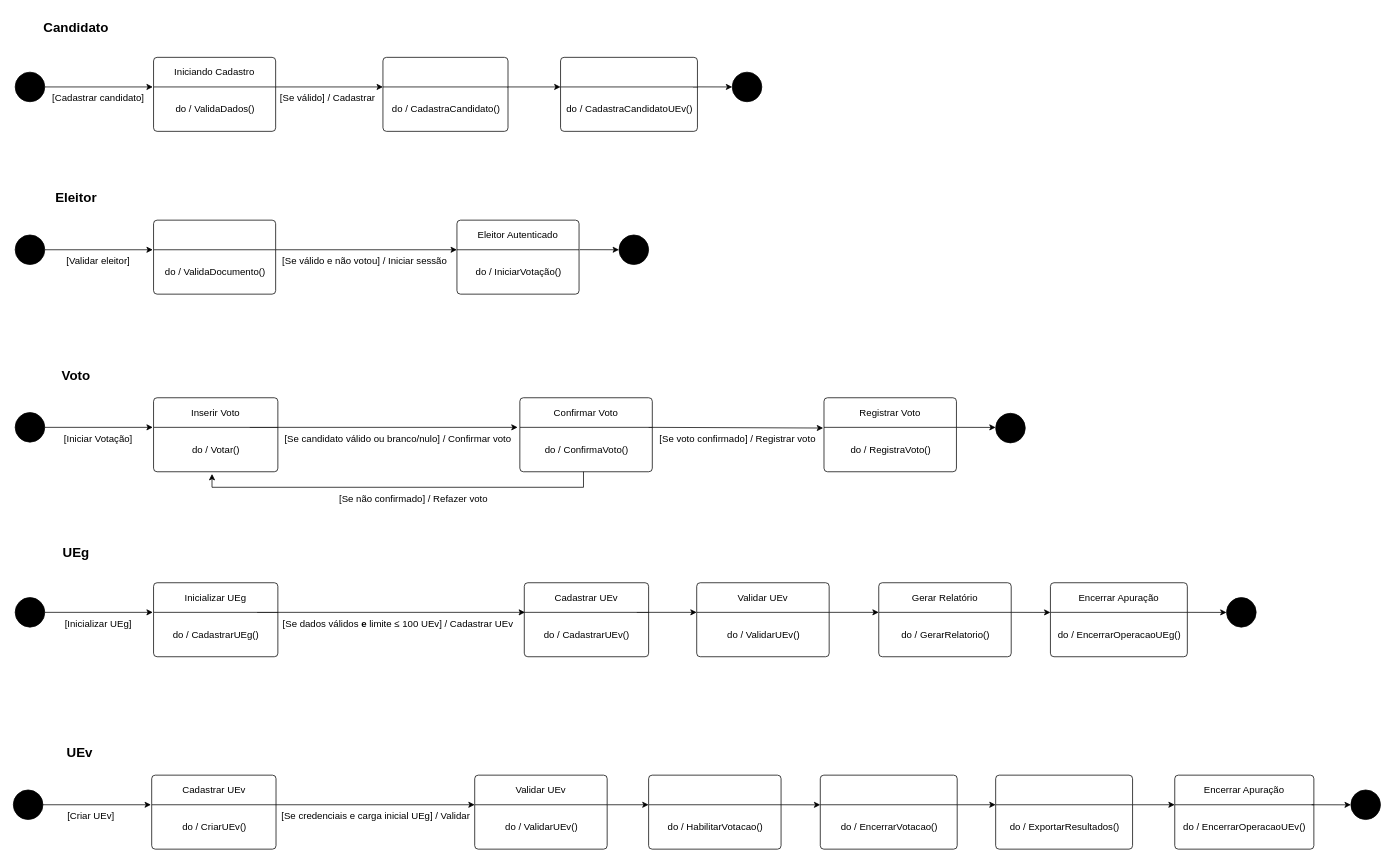
Image size: 1393x862. Some labels were removed from this diagram. The box of each missing label's shape, as (x1, y1, x2, y2) in pixels:
Candidato Cadastrado: (382, 57, 508, 131)
Encerrar Votação: (820, 774, 957, 849)
Exportar Votos: (995, 774, 1133, 849)
Incluindo na UEv: (560, 57, 697, 131)
Iniciar Votação: (648, 774, 781, 849)
Inserir Documento: (153, 219, 276, 294)
